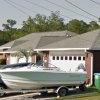Boat: (2, 42, 87, 95)
